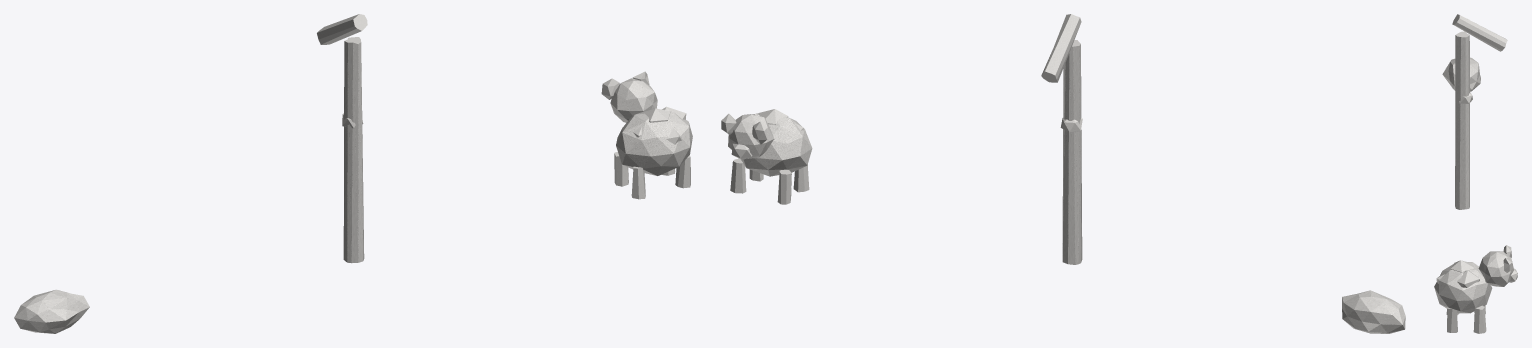
File: wonder_items_v2.glb
3 views of the same model, side by side, from view 1: azimuth 30°, elevation 25°; view 2: azimuth 150°, elevation 25°; view 3: azimuth 270°, elevation 25° (orthographic). The views are drawn at different scales.
Parts seen in each view (by area): view 1: WonderItem_Lamb_Outline, WonderItem_Staff_Outline, WonderItem_Stone_Outline; view 2: WonderItem_Lamb_Outline, WonderItem_Staff_Outline, WonderItem_Stone_Outline; view 3: WonderItem_Lamb_Outline, WonderItem_Staff_Outline, WonderItem_Stone_Outline.
Part boxes in pixels (bbox=[...]): WonderItem_Lamb_Outline: bbox=[601, 71, 692, 199]; WonderItem_Staff_Outline: bbox=[317, 14, 367, 263]; WonderItem_Stone_Outline: bbox=[14, 289, 89, 333]; WonderItem_Lamb_Outline: bbox=[721, 109, 812, 204]; WonderItem_Staff_Outline: bbox=[1041, 14, 1082, 264]; WonderItem_Stone_Outline: bbox=[1342, 290, 1405, 333]; WonderItem_Lamb_Outline: bbox=[1434, 245, 1517, 333]; WonderItem_Staff_Outline: bbox=[1452, 14, 1507, 209]; WonderItem_Stone_Outline: bbox=[1442, 57, 1480, 91].
Size of the model in its own units: 3.56 by 1.25 by 0.4899.
Materials: 5 (5 with a texture image).
